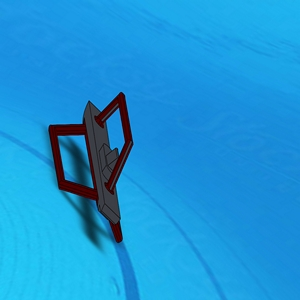submarine: (44, 99, 148, 246)
